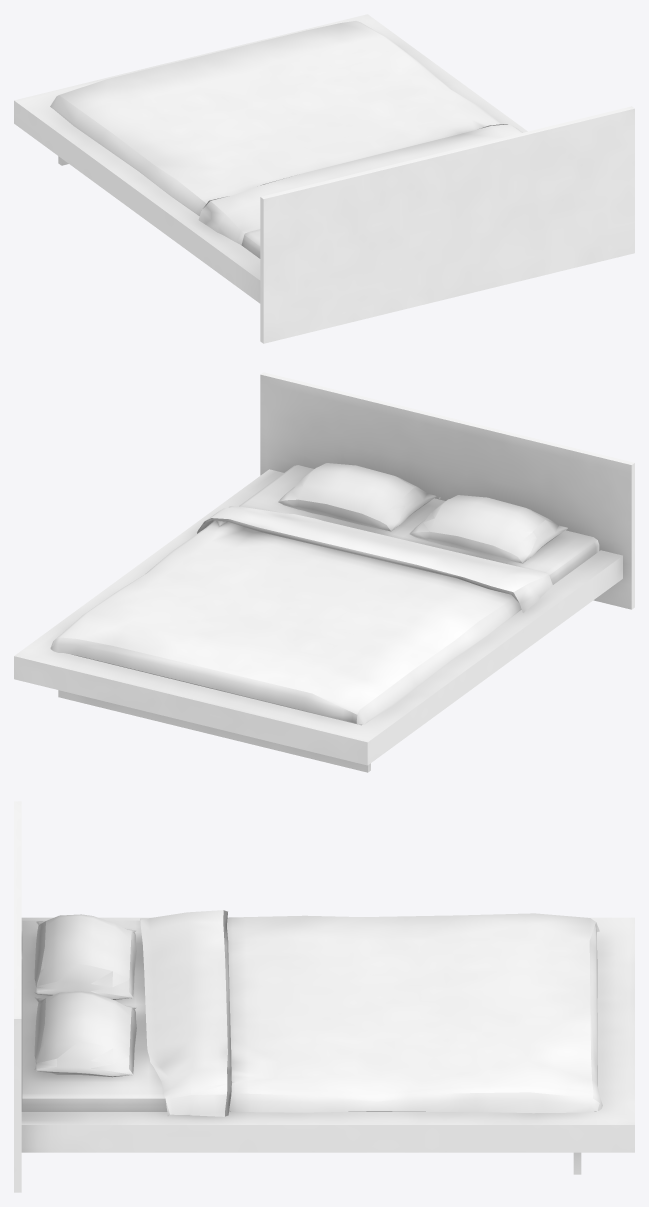
Rendered from BedQueen.glb.
The picture shows the model from 3 angles, top to bottom: view 1: azimuth 30°, elevation 25°; view 2: azimuth 150°, elevation 25°; view 3: azimuth 270°, elevation 25°; orthographic projection. The views are drawn at different scales.
Parts seen in each view (by area): view 1: BedQueen, BedQueen.002; view 2: BedQueen.002, BedQueen, BedQueen.001, BedQueen.003; view 3: BedQueen.002, BedQueen, BedQueen.001, BedQueen.003.
Part boxes in pixels (<box>): BedQueen: <box>14,14,634,343</box>; BedQueen.002: <box>50,21,522,245</box>; BedQueen.002: <box>50,506,552,724</box>; BedQueen: <box>14,372,634,772</box>; BedQueen.001: <box>278,463,567,563</box>; BedQueen.003: <box>72,465,599,725</box>; BedQueen.002: <box>140,910,602,1116</box>; BedQueen: <box>14,801,634,1192</box>; BedQueen.001: <box>34,914,136,1077</box>; BedQueen.003: <box>22,920,425,1111</box>.
Bounding box in the file's own units: 1.87 × 0.6961 × 2.26.
Materials: 1 (1 with a texture image).
